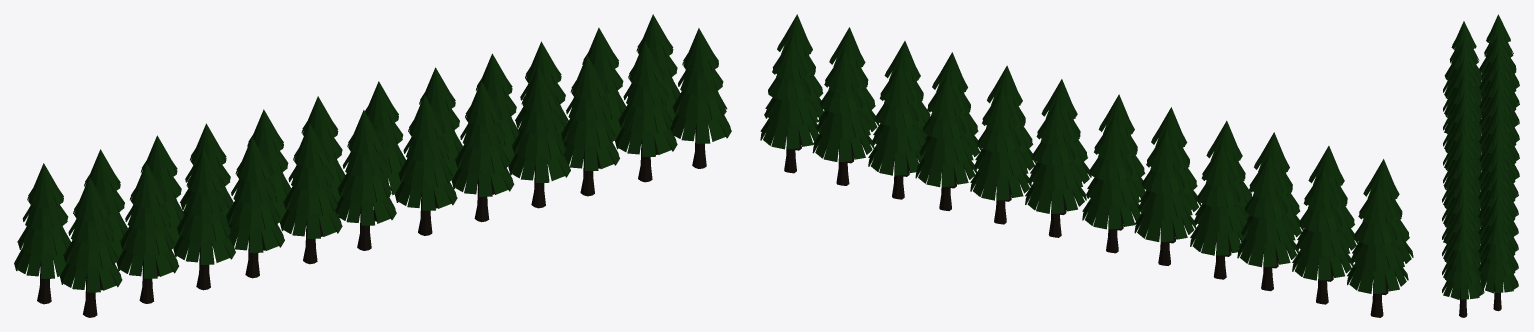
File: forrest1.fbx
3 views of the same model, side by side, from view 1: azimuth 30°, elevation 25°; view 2: azimuth 150°, elevation 25°; view 3: azimuth 270°, elevation 25° (orthographic). The views are drawn at different scales.
Parts seen in each view (by area): view 1: Tree2__8__1, Tree2__7__1, Tree2__9_, Tree2__11_, Tree2__7_, Tree2__8_, Tree2__9__1, Tree2__11__1, Tree2__12__1, Tree2__12_, Tree2__10__1, Tree2__10_ (+12 smaller); view 2: Tree2__1_, Tree2__1__1, Tree2__5__1, Tree2__5_, Tree2__3__1, Tree2__2_, Tree2__3_, Tree2__2__1, Tree2__6_, Tree2__6__1, Tree2__4__1, Tree2__4_ (+12 smaller); view 3: Tree2__12__1, Tree2__6__1, Tree2__6_, Tree2__4__1, Tree2__4_, Tree2__1_, Tree2__1__1, Tree2__2_, Tree2__2__1, Tree2__7_, Tree2__10__1, Tree2__10_ (+12 smaller).
Boxes of the visible parts, box(x1,y1,x2,y2) form: Tree2__8__1: box(451, 81, 514, 222); Tree2__7__1: box(395, 95, 457, 235); Tree2__9_: box(173, 149, 235, 290); Tree2__11_: box(280, 123, 342, 264); Tree2__7_: box(60, 177, 122, 317); Tree2__8_: box(116, 163, 178, 303); Tree2__9__1: box(508, 67, 570, 208); Tree2__11__1: box(615, 41, 677, 182); Tree2__12__1: box(670, 28, 731, 168); Tree2__12_: box(335, 110, 396, 250); Tree2__10__1: box(560, 55, 619, 196); Tree2__10_: box(225, 137, 284, 278); Tree2__1_: box(1347, 181, 1408, 317); Tree2__1__1: box(1025, 102, 1086, 237); Tree2__5__1: box(812, 50, 874, 185); Tree2__5_: box(1134, 130, 1196, 265); Tree2__3__1: box(915, 75, 976, 210); Tree2__2_: box(1292, 168, 1353, 304); Tree2__3_: box(1237, 155, 1298, 291); Tree2__2__1: box(970, 88, 1031, 224); Tree2__6_: box(1082, 117, 1142, 253); Tree2__6__1: box(760, 37, 821, 173); Tree2__4__1: box(868, 63, 925, 199); Tree2__4_: box(1190, 143, 1247, 279); Tree2__12__1: box(1442, 221, 1484, 317); Tree2__6__1: box(1478, 214, 1518, 311); Tree2__6_: box(1479, 105, 1519, 179); Tree2__4__1: box(1478, 178, 1518, 251); Tree2__4_: box(1479, 68, 1519, 141); Tree2__1_: box(1479, 14, 1519, 88); Tree2__1__1: box(1478, 124, 1518, 197); Tree2__2_: box(1479, 33, 1519, 106); Tree2__2__1: box(1478, 143, 1518, 216); Tree2__7_: box(1443, 21, 1481, 95); Tree2__10__1: box(1442, 184, 1480, 258); Tree2__10_: box(1443, 75, 1481, 148).
Size of the model in its own units: 4167 by 819 by 609.
